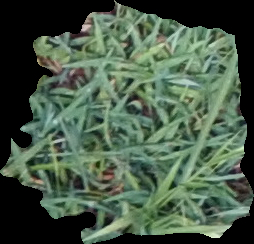grass: (1, 1, 253, 243)
